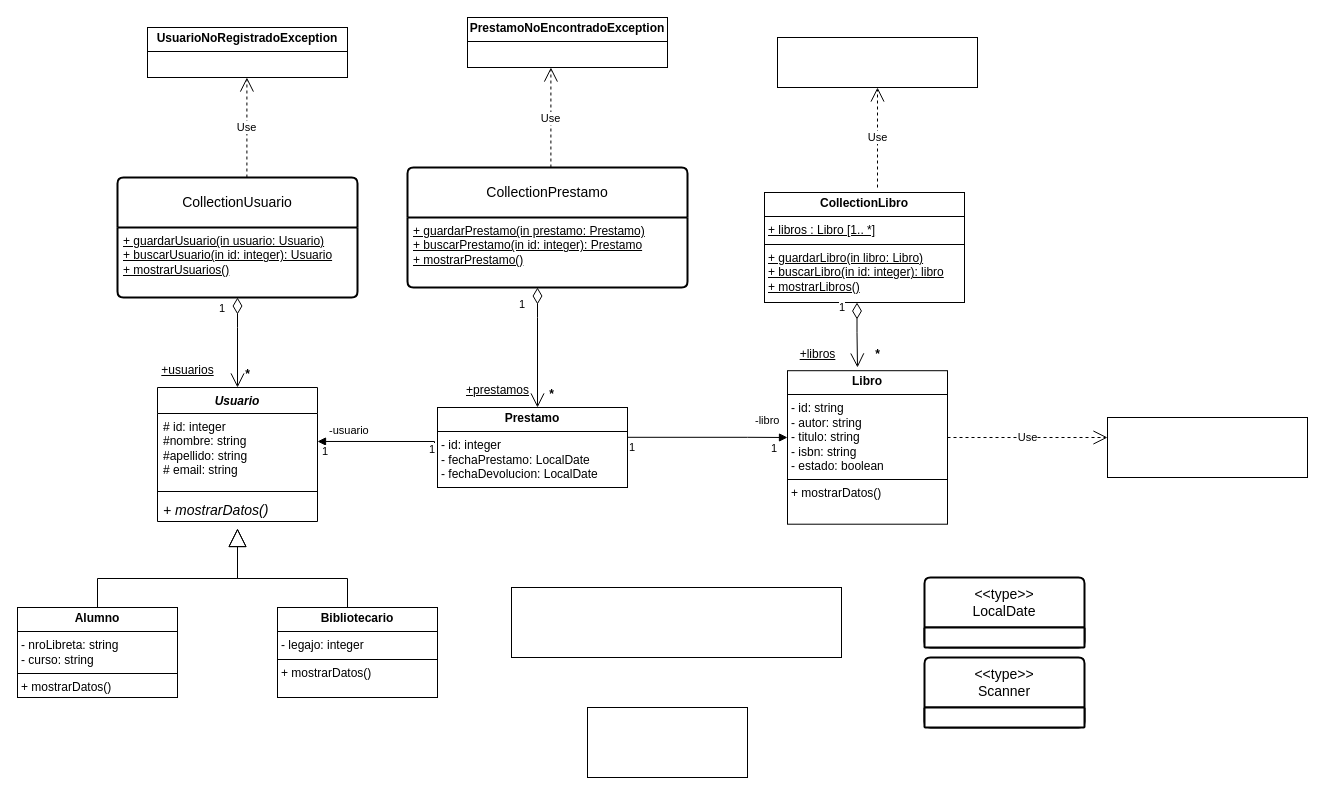
The diagram is 1325 pixels wide and 795 high, and some of its shapes have lost their labels. Here are the shapes that lost their labels. From the top down, the centre of each, then its label:
point 877,62: LibroNoEncontradoException
point 1207,447: LibroNoDisponibleException
point 676,622: FechaUtil + convertirStringLocalDate(fechaStr : String) : LocalDate
point 667,742: Principal - sc: Scanner
